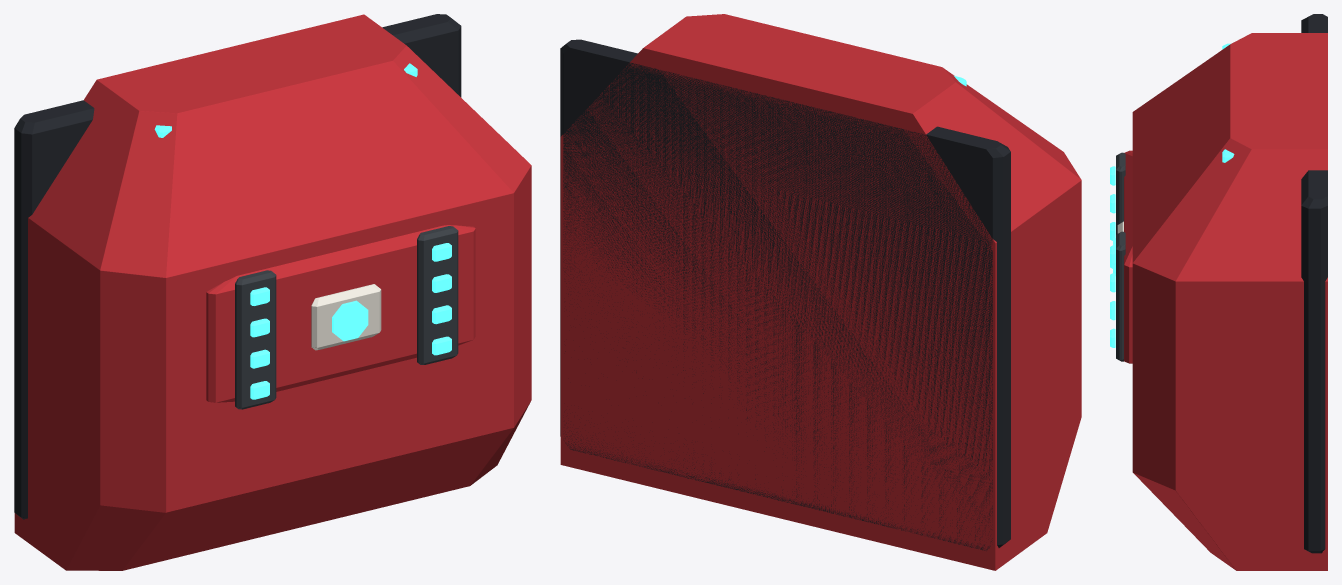
Rendered from FootFront_Set10_Aegis.fbx.
3 views of the same model, side by side, from view 1: azimuth 30°, elevation 25°; view 2: azimuth 150°, elevation 25°; view 3: azimuth 270°, elevation 25° (orthographic). The views are drawn at different scales.
Visible parts, largest first — view 1: FootFront_Set10_Aegis; view 2: FootFront_Set10_Aegis; view 3: FootFront_Set10_Aegis.
Boxes of the visible parts, left/top/right/bottom form: FootFront_Set10_Aegis: left=14, top=14, right=531, bottom=570; FootFront_Set10_Aegis: left=560, top=14, right=1081, bottom=570; FootFront_Set10_Aegis: left=1110, top=14, right=1327, bottom=570.
Size of the model in its own units: 0.51 by 0.48 by 0.2455.
